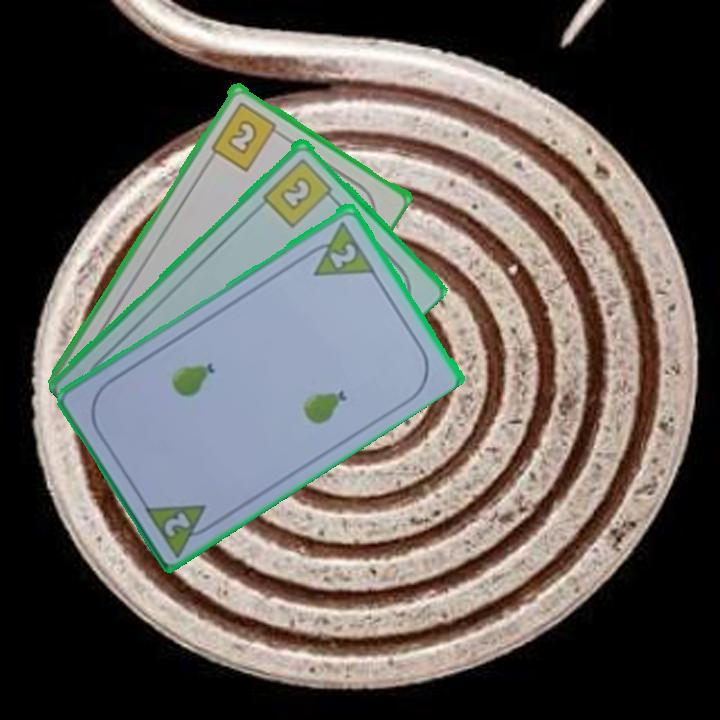2b: (259, 154, 340, 230), (207, 97, 285, 173)
2p: (326, 238, 360, 271), (160, 507, 194, 539)
